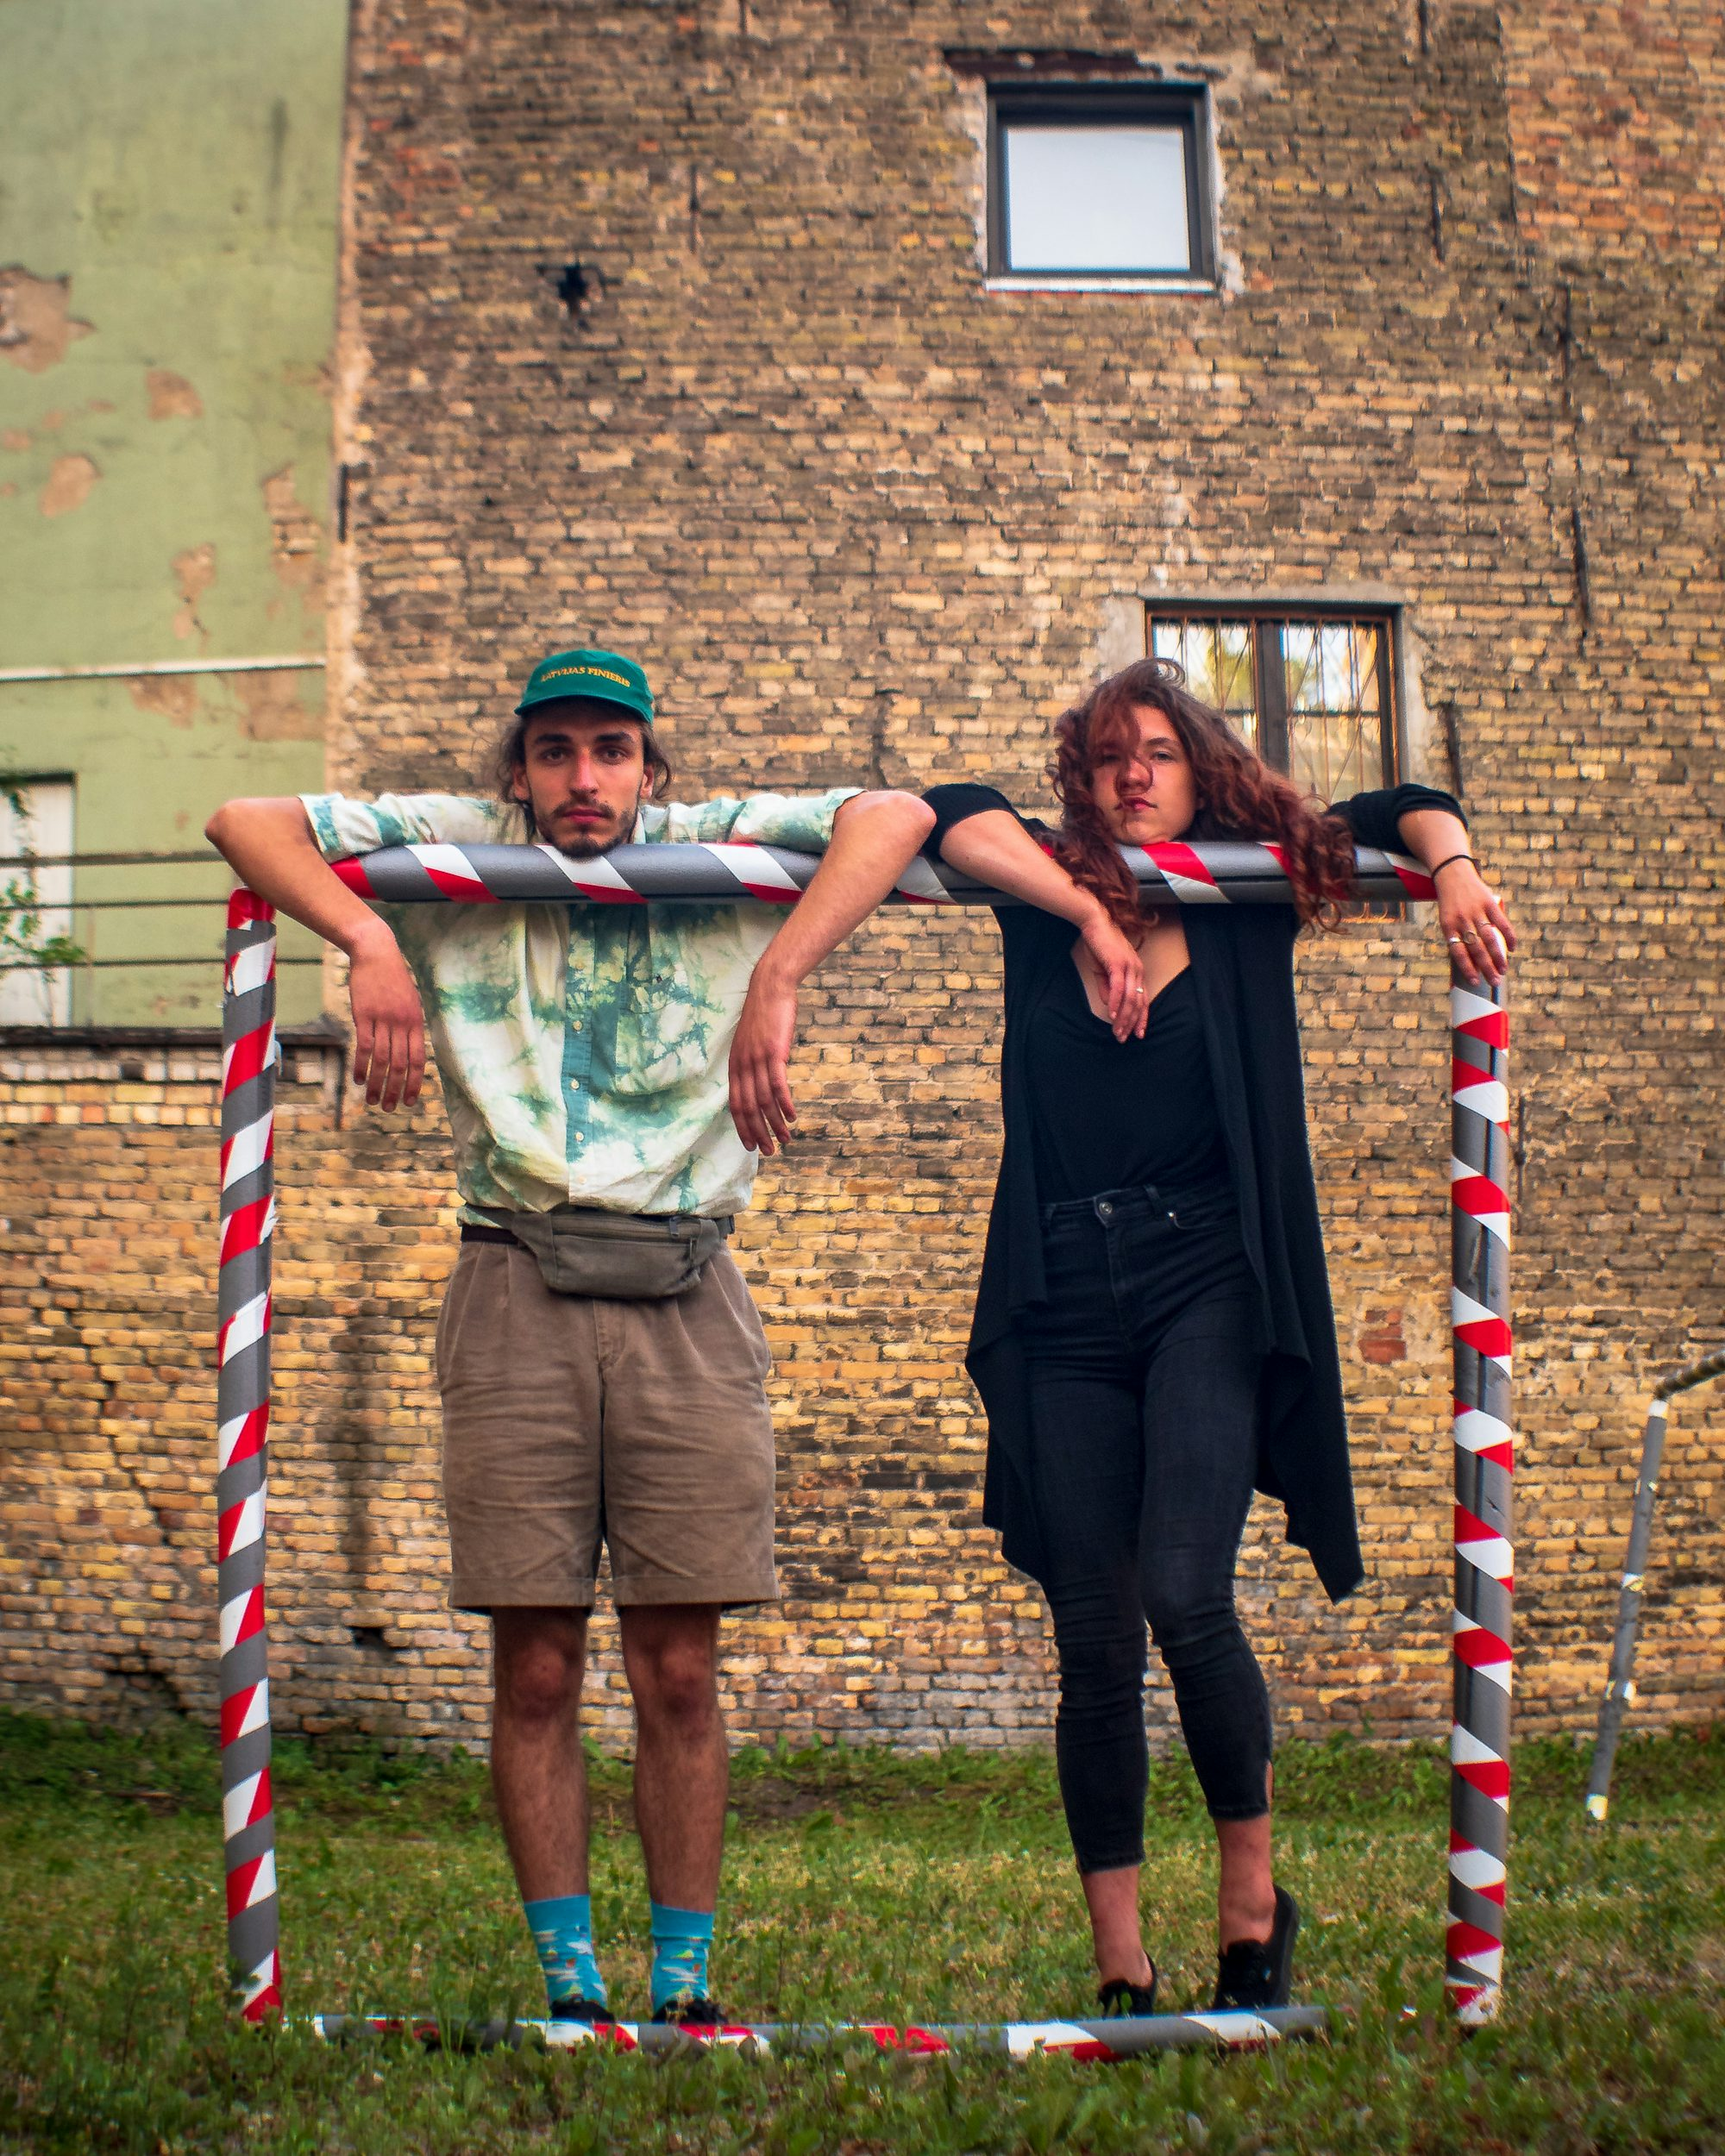person: (191, 653, 963, 2058), (868, 646, 1526, 2026)
